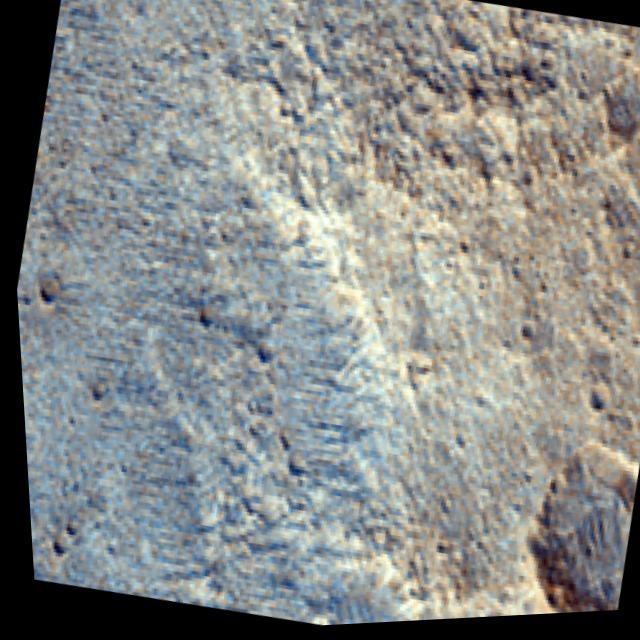Crater: (0, 0, 107, 568), (491, 428, 640, 621)
